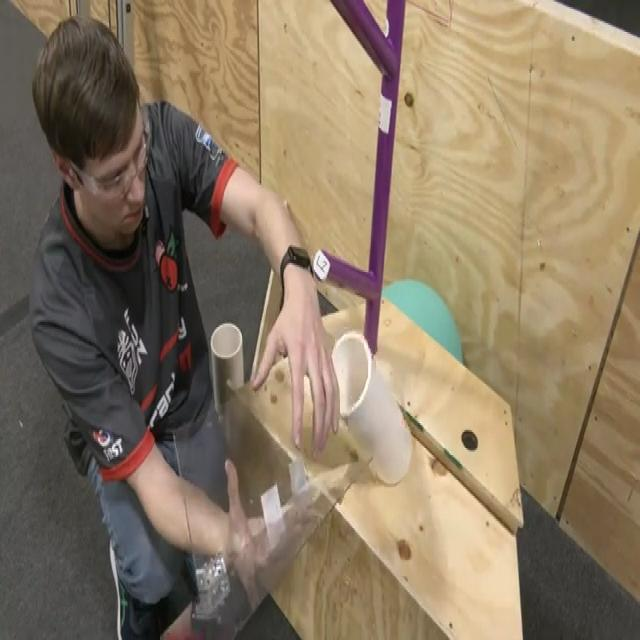Coral: (330, 327, 413, 485), (210, 325, 246, 421)
